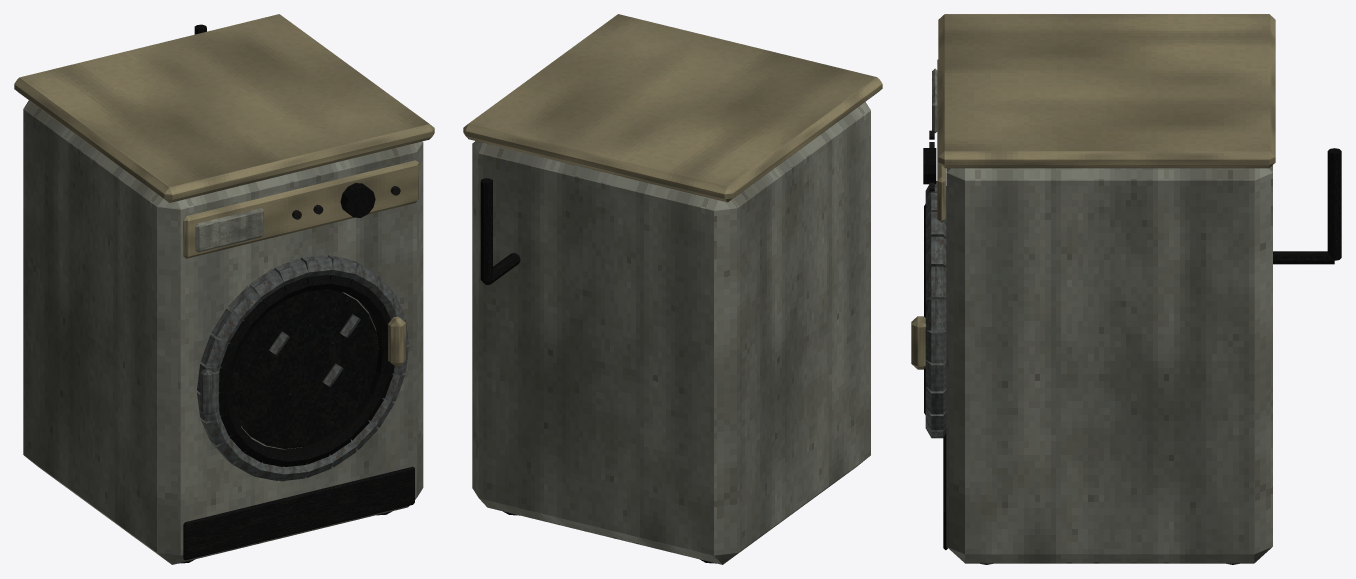
File: level_laundry_washer_worn.glb
3 renders of one model, left to right at view 1: azimuth 30°, elevation 25°; view 2: azimuth 150°, elevation 25°; view 3: azimuth 270°, elevation 25°, orthographic. The views are drawn at different scales.
Visible parts, largest first — view 1: level_laundry_washer_worn; view 2: level_laundry_washer_worn; view 3: level_laundry_washer_worn.
Part boxes in pixels (<box>): level_laundry_washer_worn: <box>14,14,434,564</box>; level_laundry_washer_worn: <box>463,14,882,564</box>; level_laundry_washer_worn: <box>911,14,1341,564</box>.
Size of the model in its own units: 0.63 by 0.8725 by 0.8035.
Materials: 5 (5 with a texture image).
